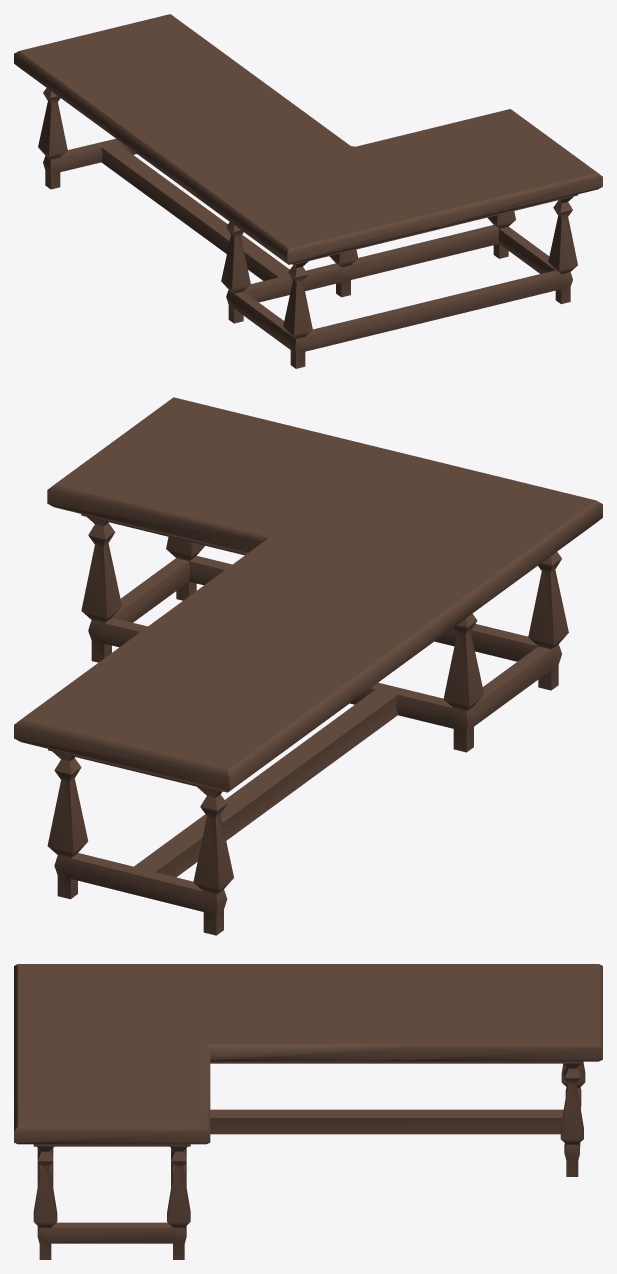
3 views of the same model, one above another, from view 1: azimuth 30°, elevation 25°; view 2: azimuth 150°, elevation 25°; view 3: azimuth 270°, elevation 25° (orthographic). The views are drawn at different scales.
Visible parts, largest first — view 1: Desk_2x3x1.002_0; view 2: Desk_2x3x1.002_0; view 3: Desk_2x3x1.002_0.
Boxes of the visible parts, x1,y1,x2,y2 form: Desk_2x3x1.002_0: (14, 14, 602, 368); Desk_2x3x1.002_0: (14, 397, 602, 935); Desk_2x3x1.002_0: (14, 964, 602, 1259).
Size of the model in its own units: 2 by 0.8 by 3.
